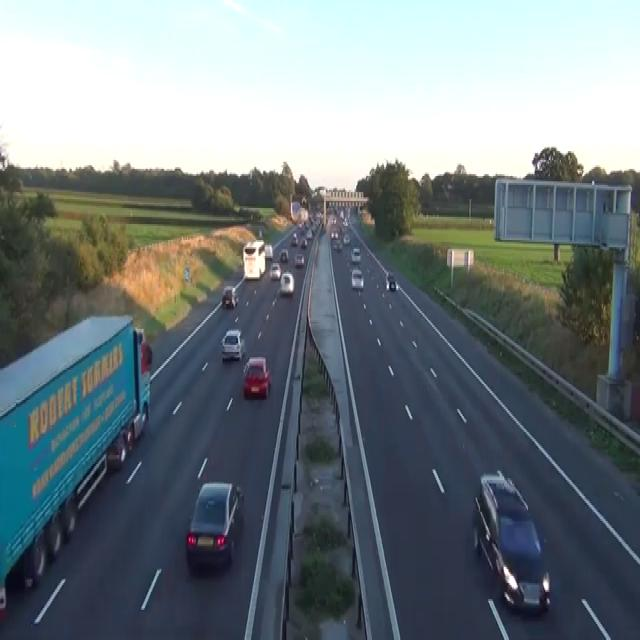Car: (472, 469, 550, 614), (185, 482, 244, 569), (242, 356, 271, 398), (105, 428, 127, 469), (220, 329, 245, 361), (221, 284, 238, 308), (279, 270, 294, 295), (351, 268, 364, 290), (385, 270, 396, 290), (269, 261, 281, 279), (350, 246, 361, 262), (264, 243, 273, 260), (294, 252, 304, 266), (279, 249, 289, 261), (183, 265, 190, 281), (332, 240, 342, 251), (291, 231, 298, 245), (300, 238, 307, 249), (330, 230, 339, 238), (343, 233, 350, 243), (305, 228, 312, 238), (342, 217, 349, 226), (258, 228, 263, 238), (300, 196, 306, 204)
Truck: (0, 313, 152, 619), (242, 238, 265, 279)
